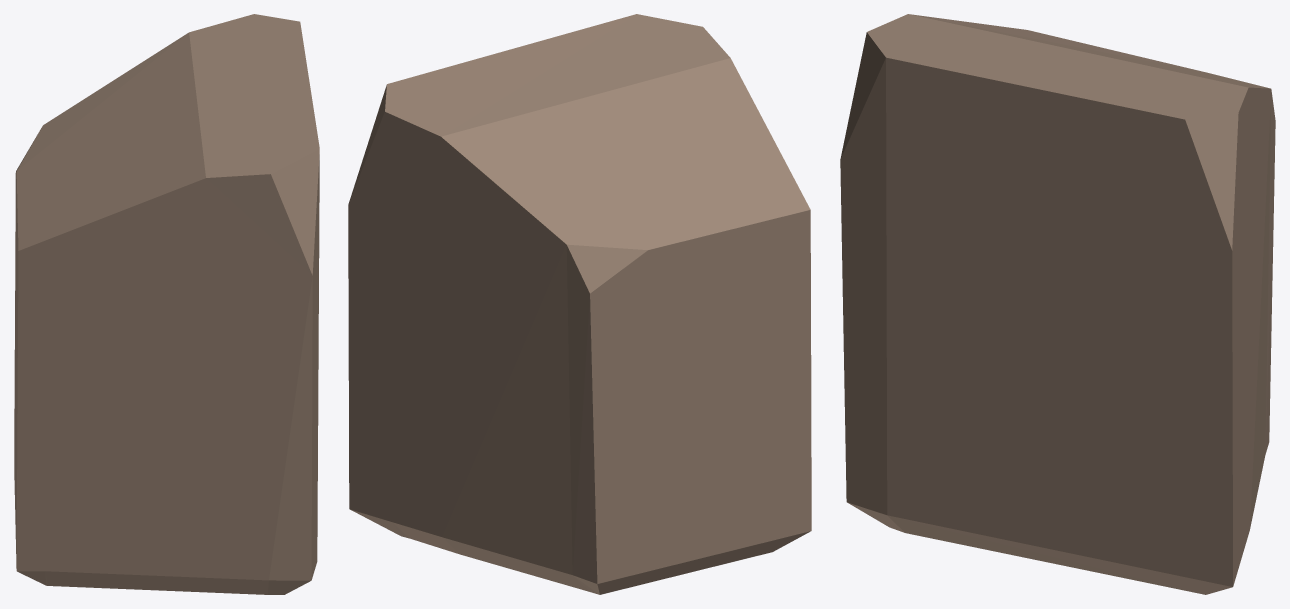
File: Rock_Trick.fbx
3 views of the same model, side by side, from view 1: azimuth 30°, elevation 25°; view 2: azimuth 150°, elevation 25°; view 3: azimuth 270°, elevation 25° (orthographic). The views are drawn at different scales.
Visible parts, largest first — view 1: 立方体.067; view 2: 立方体.067; view 3: 立方体.067.
Boxes of the visible parts, x1,y1,x2,y2 form: 立方体.067: (14, 14, 319, 594); 立方体.067: (348, 14, 811, 594); 立方体.067: (840, 14, 1275, 594).
Bounding box in the file's own units: 543 × 496 × 615.
